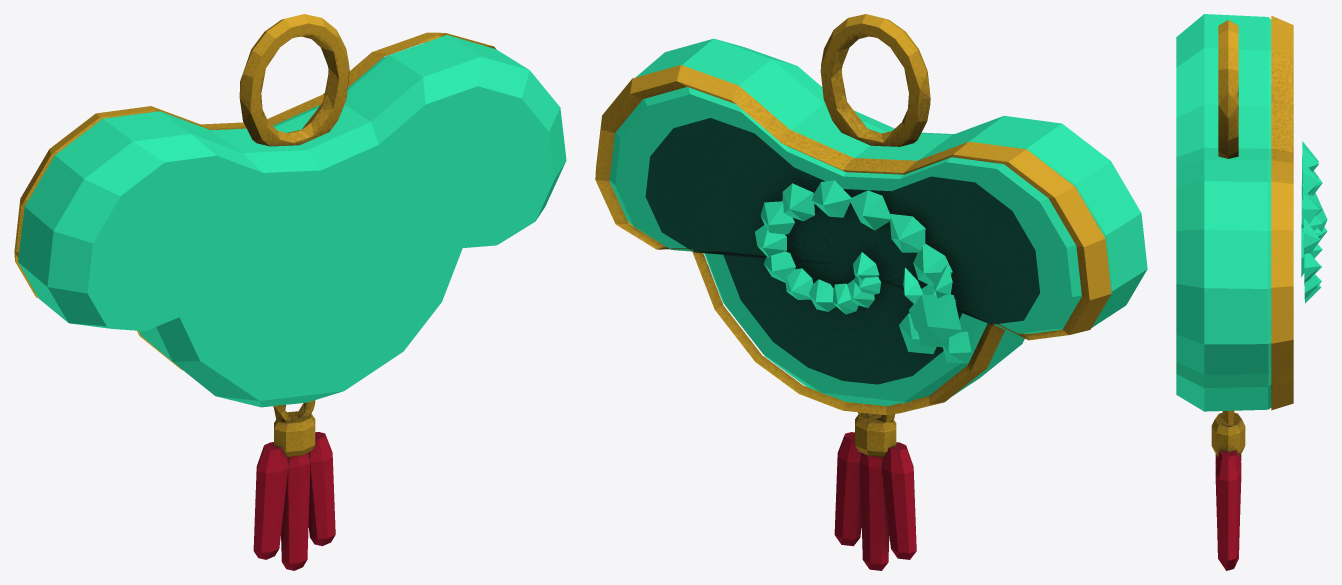
3 views of the same model, side by side, from view 1: azimuth 30°, elevation 25°; view 2: azimuth 150°, elevation 25°; view 3: azimuth 270°, elevation 25° (orthographic).
Parts seen in each view (by area): view 1: glow_Carved_luminous_jade, Polished_imperial_gold, Imperial_red_lacquer; view 2: glow_Carved_luminous_jade, Deep_jade_heart, Polished_imperial_gold, Imperial_red_lacquer; view 3: glow_Carved_luminous_jade, Polished_imperial_gold, Imperial_red_lacquer.
Boxes of the visible parts, x1,y1,x2,y2 form: glow_Carved_luminous_jade: [18, 35, 566, 407]; Polished_imperial_gold: [14, 14, 496, 456]; Imperial_red_lacquer: [253, 432, 335, 570]; glow_Carved_luminous_jade: [609, 38, 1147, 406]; Deep_jade_heart: [645, 118, 1039, 384]; Polished_imperial_gold: [595, 14, 1111, 457]; Imperial_red_lacquer: [834, 432, 916, 570]; glow_Carved_luminous_jade: [1176, 14, 1327, 411]; Polished_imperial_gold: [1211, 15, 1293, 456]; Imperial_red_lacquer: [1215, 450, 1241, 570].
Size of the model in its own units: 0.85 by 0.8635 by 0.2181.
4 materials, 3 textured.
